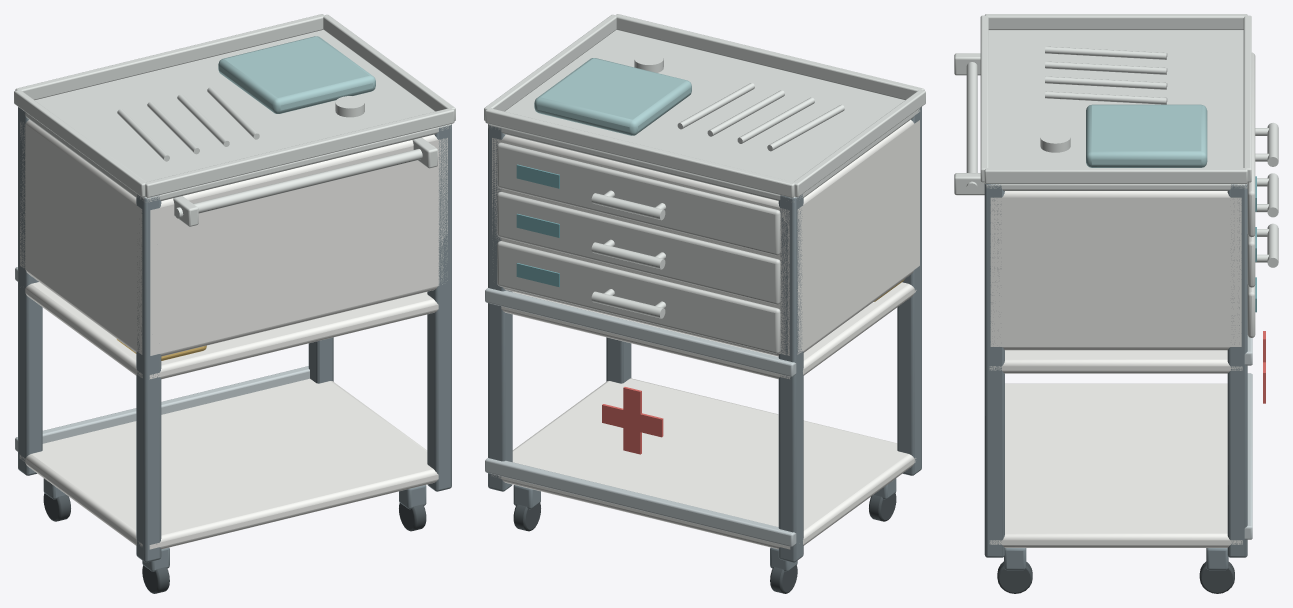
The model's file is surgery_cart.glb.
3 renders of one model, left to right at view 1: azimuth 30°, elevation 25°; view 2: azimuth 150°, elevation 25°; view 3: azimuth 270°, elevation 25°, orthographic. The views are drawn at different scales.
Parts seen in each view (by area): view 1: drawer_unit_white_painted, shelf_12_white_painted, tray_satin_steel, posts_dark_alloy, tray_lips_satin_steel, shelf_50_white_painted, instrument_pack_teal_soft, shelf_lip_12_alloy, casters_black_rubber, push_handle_satin_steel, instruments_satin_steel, handle_supports_satin_steel; view 2: drawer_fronts_warm_panel, shelf_12_white_painted, drawer_unit_white_painted, tray_satin_steel, posts_dark_alloy, tray_lips_satin_steel, instrument_pack_teal_soft, shelf_lip_12_alloy, shelf_lip_50_alloy, shelf_50_white_painted, instruments_satin_steel, casters_black_rubber (+7 smaller); view 3: drawer_unit_white_painted, shelf_12_white_painted, tray_satin_steel, posts_dark_alloy, tray_lips_satin_steel, instrument_pack_teal_soft, shelf_50_white_painted, instruments_satin_steel, casters_black_rubber, drawer_fronts_warm_panel, push_handle_satin_steel, handle_supports_satin_steel (+4 smaller).
Part boxes in pixels (x1=…): drawer_unit_white_painted: x1=20, y1=119, x2=447, y2=356; shelf_12_white_painted: x1=19, y1=378, x2=438, y2=549; tray_satin_steel: x1=18, y1=30, x2=451, y2=202; posts_dark_alloy: x1=18, y1=107, x2=451, y2=562; tray_lips_satin_steel: x1=14, y1=14, x2=455, y2=197; shelf_50_white_painted: x1=20, y1=282, x2=438, y2=379; instrument_pack_teal_soft: x1=218, y1=36, x2=375, y2=113; shelf_lip_12_alloy: x1=15, y1=366, x2=309, y2=451; casters_black_rubber: x1=43, y1=478, x2=426, y2=593; push_handle_satin_steel: x1=174, y1=145, x2=434, y2=220; instruments_satin_steel: x1=117, y1=87, x2=364, y2=161; handle_supports_satin_steel: x1=173, y1=137, x2=437, y2=226; drawer_fronts_warm_panel: x1=497, y1=142, x2=780, y2=353; shelf_12_white_painted: x1=491, y1=378, x2=916, y2=549; drawer_unit_white_painted: x1=492, y1=119, x2=919, y2=356; tray_satin_steel: x1=488, y1=30, x2=920, y2=202; posts_dark_alloy: x1=488, y1=107, x2=921, y2=562; tray_lips_satin_steel: x1=484, y1=14, x2=925, y2=197; instrument_pack_teal_soft: x1=534, y1=58, x2=691, y2=135; shelf_lip_12_alloy: x1=485, y1=458, x2=796, y2=546; shelf_lip_50_alloy: x1=485, y1=288, x2=796, y2=376; shelf_50_white_painted: x1=501, y1=282, x2=916, y2=379; instruments_satin_steel: x1=634, y1=52, x2=844, y2=151; casters_black_rubber: x1=513, y1=478, x2=896, y2=593; drawer_unit_white_painted: x1=990, y1=191, x2=1241, y2=350; shelf_12_white_painted: x1=989, y1=383, x2=1242, y2=547; tray_satin_steel: x1=984, y1=30, x2=1247, y2=190; posts_dark_alloy: x1=984, y1=184, x2=1247, y2=557; tray_lips_satin_steel: x1=980, y1=14, x2=1251, y2=183; instrument_pack_teal_soft: x1=1086, y1=104, x2=1207, y2=167; shelf_50_white_painted: x1=989, y1=350, x2=1242, y2=373; instruments_satin_steel: x1=1040, y1=46, x2=1167, y2=152; casters_black_rubber: x1=997, y1=548, x2=1234, y2=593; drawer_fronts_warm_panel: x1=1247, y1=52, x2=1255, y2=337; push_handle_satin_steel: x1=966, y1=62, x2=977, y2=193; handle_supports_satin_steel: x1=954, y1=53, x2=984, y2=195.
Bounding box in the file's own units: 0.736 × 0.955 × 0.641.
